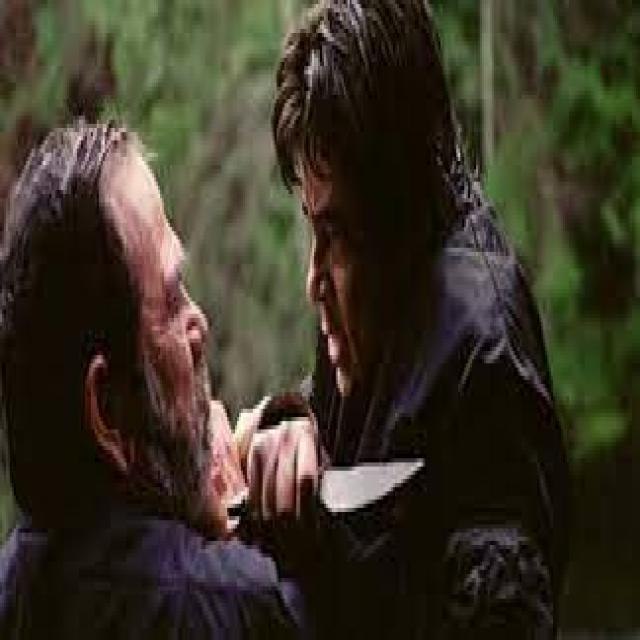fight: (10, 0, 584, 640), (246, 423, 448, 539)
